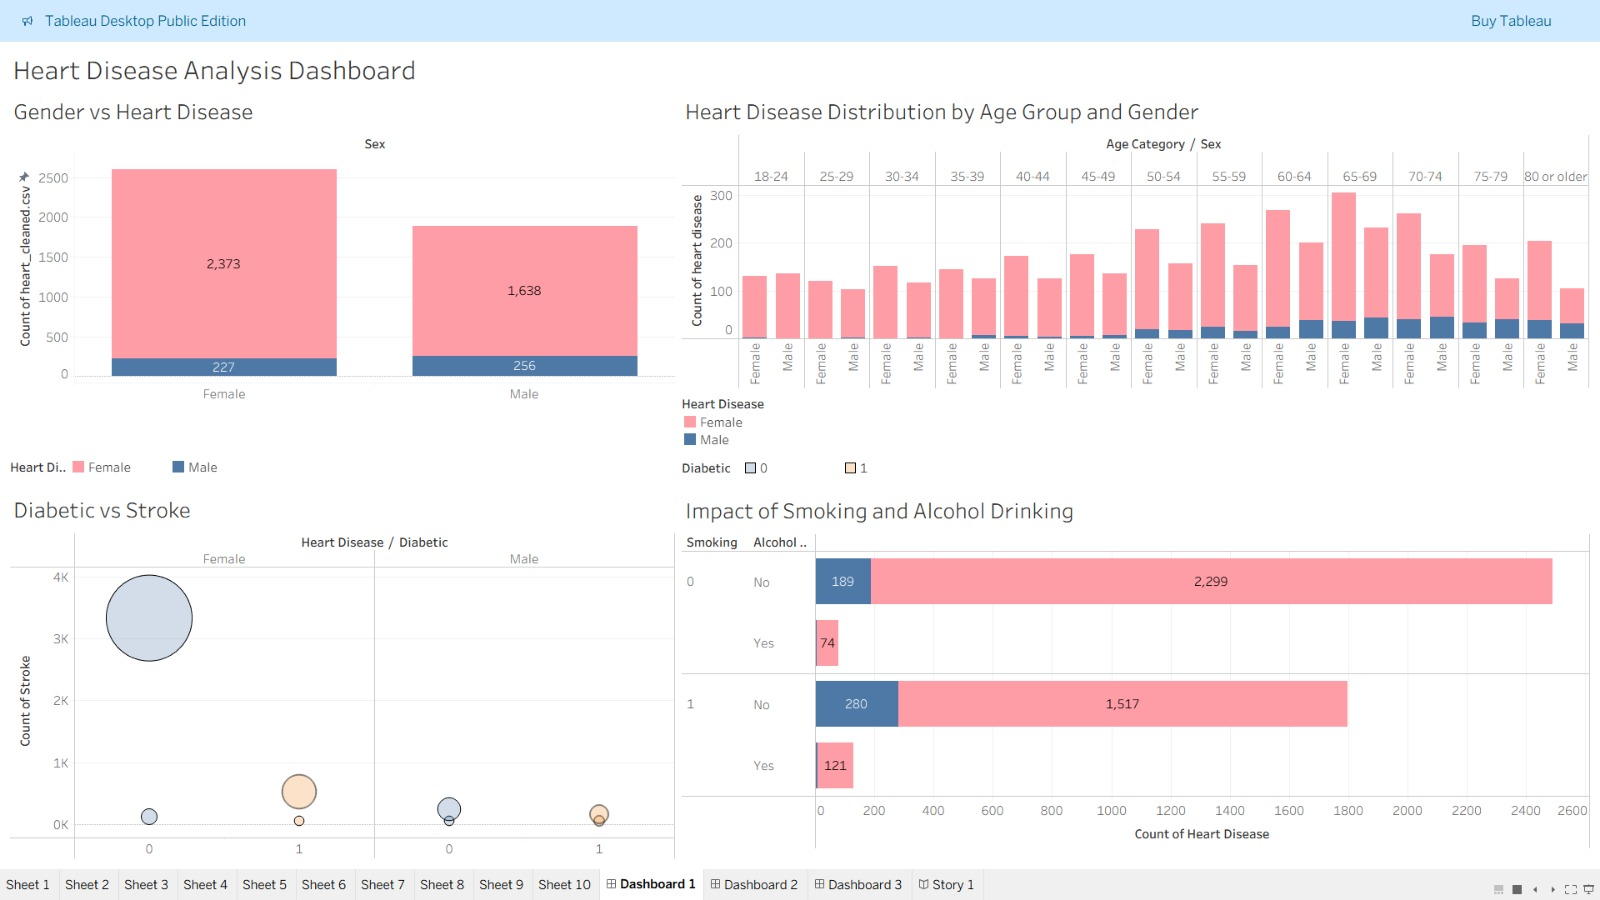

Layout of this report page (visuals, bound fields, positions):
{"tool":"tableau","page":{"name":"Dashboard 1","canvas":[1000,1000],"units":"permille","ordinal":0},"visuals":[{"type":"title","box":[4.8,10,990.3,50]},{"type":"worksheet","title":"Sheet 1","mark":"Automatic","rows":["heart_cleaned.csv_366BD4B92DB540FA95ABCB560F4D1D1C"],"cols":["Sex"],"box":[4.8,60,419.4,440]},{"type":"worksheet","title":"Sheet 2","mark":"Automatic","rows":["heart_cleaned.csv_366BD4B92DB540FA95ABCB560F4D1D1C"],"cols":["AgeCategory","Sex"],"box":[424.3,60,570.9,363.8]},{"type":"legend","title":"Sheet 4","param":"[federated.16wzaki1bai31r1ebjb7l0oag64c].[none:HeartDisease:ok]","box":[424.3,423.7,570.9,76.9]},{"type":"legend","title":"Sheet 1","param":"[federated.16wzaki1bai31r1ebjb7l0oag64c].[none:HeartDisease:ok]","box":[4.8,500,419.4,39.3]},{"type":"legend","title":"Sheet 3","param":"[federated.16wzaki1bai31r1ebjb7l0oag64c].[none:Diabetic:ok]","box":[424.3,500.6,570.9,40]},{"type":"worksheet","title":"Sheet 3","mark":"Circle","rows":["Stroke"],"cols":["HeartDisease","Diabetic"],"box":[4.8,539.3,419.4,450.7]},{"type":"worksheet","title":"Sheet 4","mark":"Bar","rows":["Smoking","AlcoholDrinking"],"cols":["HeartDisease"],"box":[424.3,540.6,570.9,449.4]}]}

Visuals, with their boxes on the dashboard's canvas, which has no fixed pixel size, in thousandths of its width and height (x1, y1, x2, y2). These are canvas units, not pixel positions in the 1600x900 screenshot, which may show the page scaled, cropped or inside an application window:
title: (5, 10, 995, 60)
"Sheet 1" worksheet: (5, 60, 424, 500)
"Sheet 2" worksheet: (424, 60, 995, 424)
"Sheet 4" legend: (424, 424, 995, 501)
"Sheet 1" legend: (5, 500, 424, 539)
"Sheet 3" legend: (424, 501, 995, 541)
"Sheet 3" worksheet (Circle marks): (5, 539, 424, 990)
"Sheet 4" worksheet (Bar marks): (424, 541, 995, 990)
